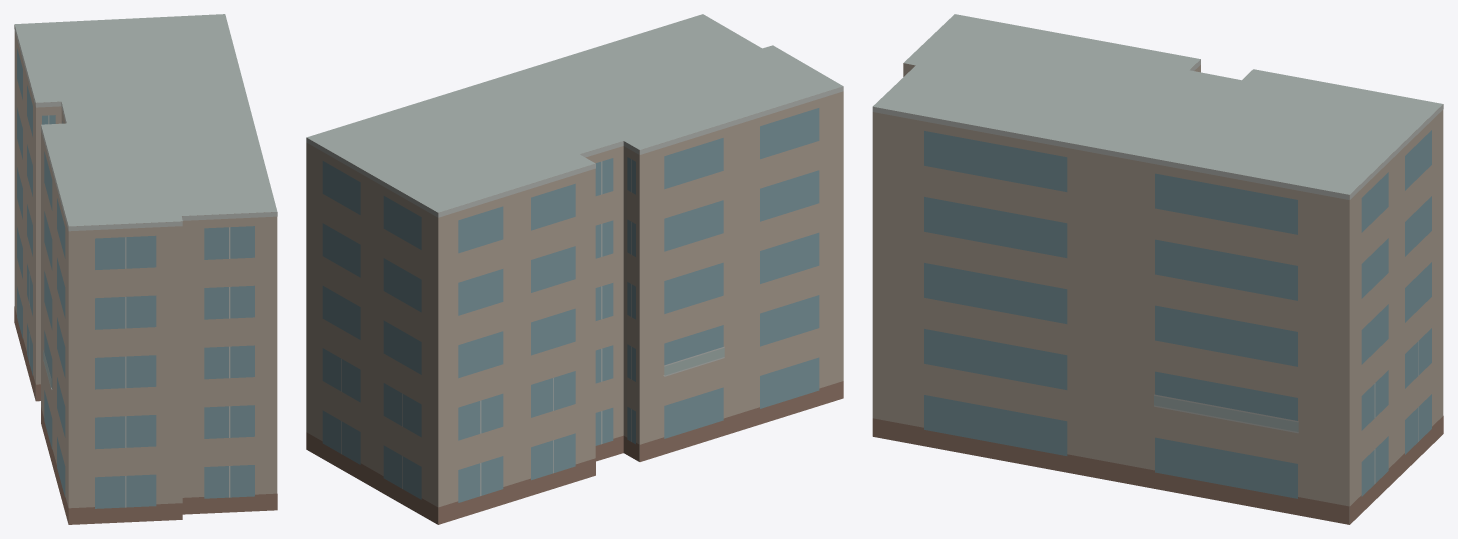
The model's file is survey-upis-32669783.glb.
3 views of the same model, side by side, from view 1: azimuth 30°, elevation 25°; view 2: azimuth 150°, elevation 25°; view 3: azimuth 270°, elevation 25° (orthographic). The views are drawn at different scales.
Visible parts, largest first — view 1: survey-upis-32669783.tmp; view 2: survey-upis-32669783.tmp; view 3: survey-upis-32669783.tmp.
Boxes of the visible parts, x1=… form: survey-upis-32669783.tmp: x1=14, y1=14, x2=277, y2=524; survey-upis-32669783.tmp: x1=306, y1=14, x2=843, y2=524; survey-upis-32669783.tmp: x1=872, y1=14, x2=1443, y2=524.
Bounding box in the file's own units: 17.93 × 15.25 × 23.92.
